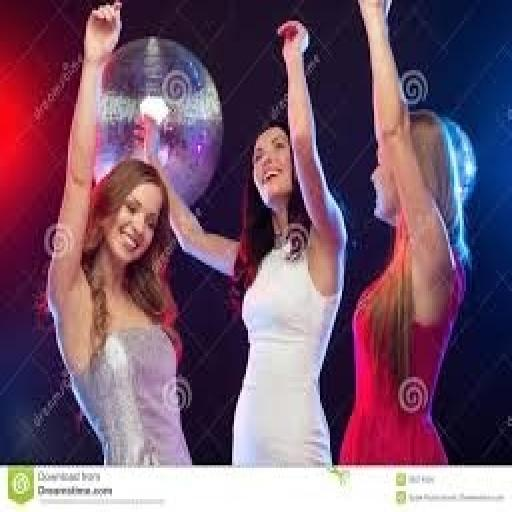dancing: (132, 16, 350, 468), (42, 0, 194, 465), (336, 0, 478, 465)
